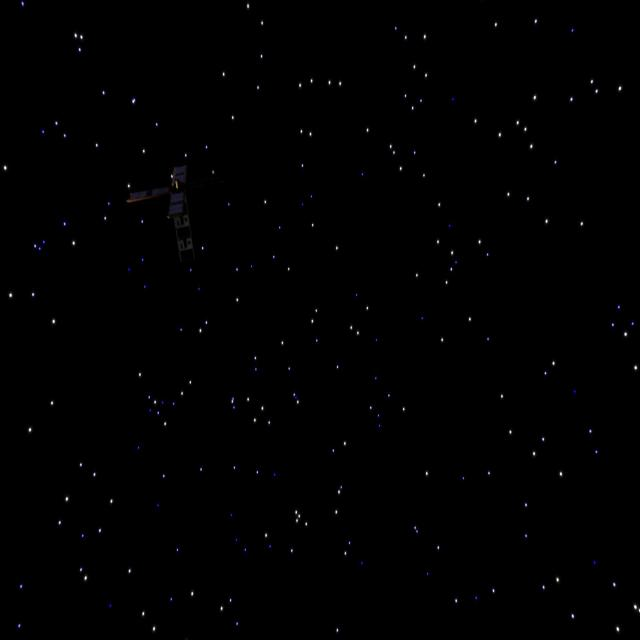medium_debris: (122, 158, 211, 269)
